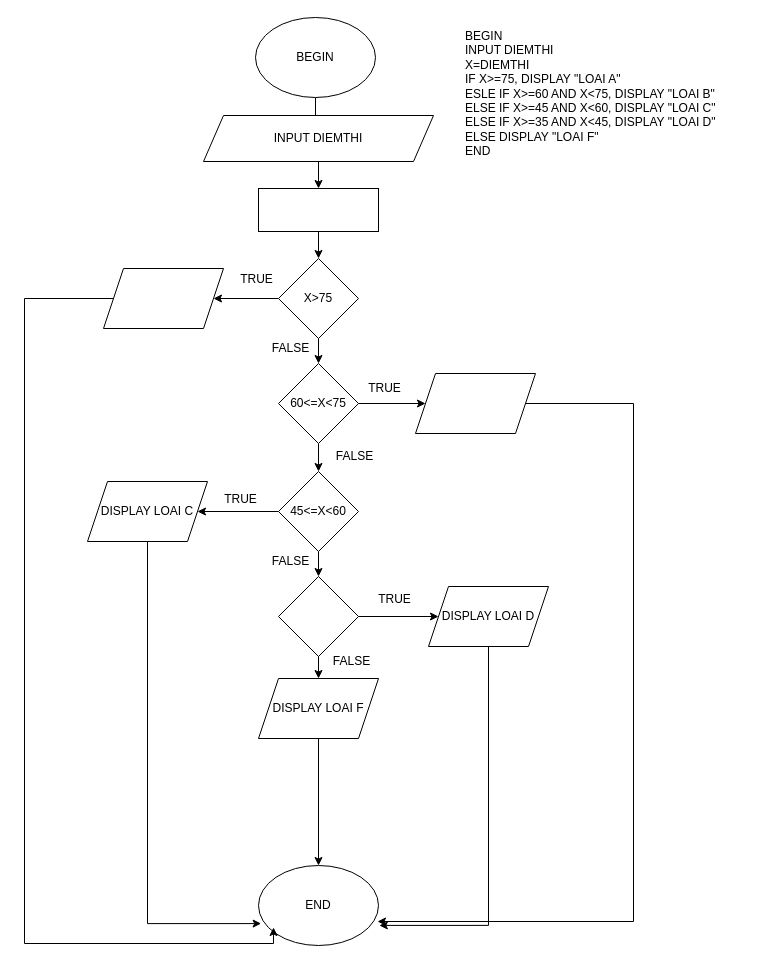
This 760x969 diagram has some shape labels left out. The centre of each missing label's shape, as x and y in pixels:
"35<=X<45" belongs at [318,616].
"DISPLAY LOAI A" belongs at [163,298].
"DISPLAY LOAI B" belongs at [475,403].
"X=DIEMTHI" belongs at [318,210].
